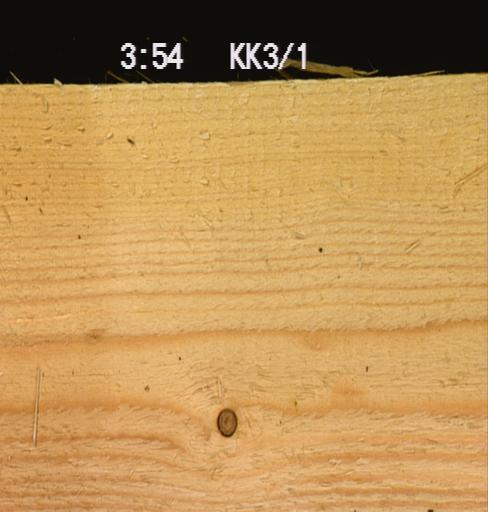dry_knot: (213, 406, 238, 437)
